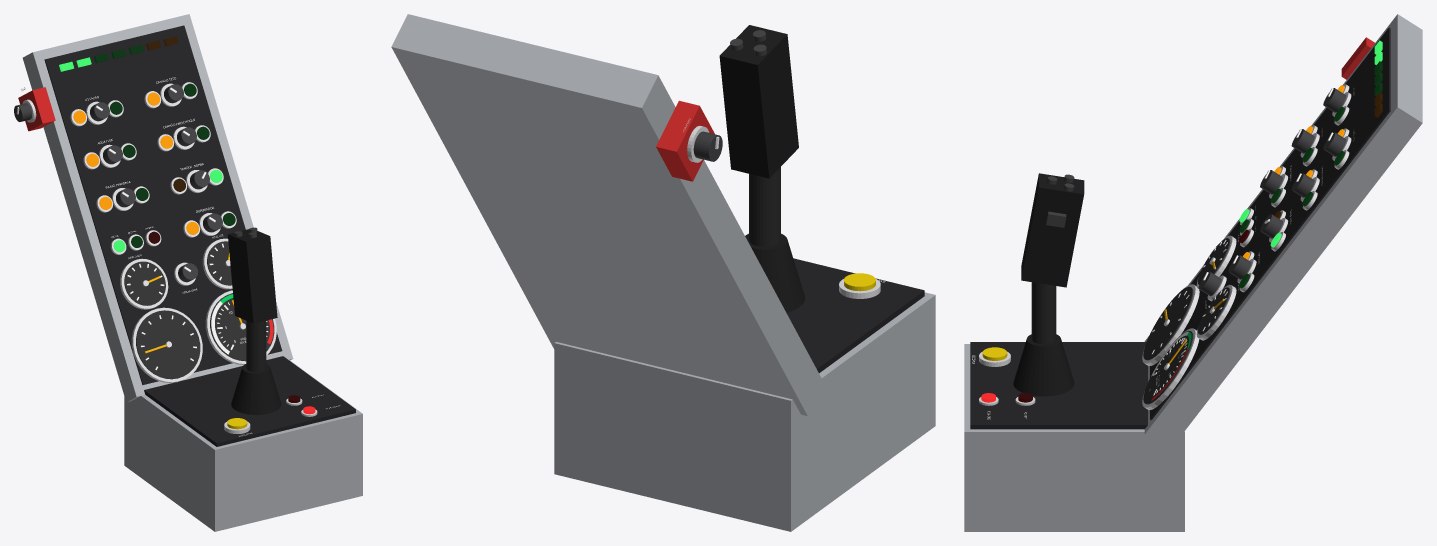
Rendered from PainelCentral.glb.
3 renders of one model, left to right at view 1: azimuth 30°, elevation 25°; view 2: azimuth 150°, elevation 25°; view 3: azimuth 270°, elevation 25°, orthographic. The views are drawn at different scales.
Parts seen in each view (by area): view 1: Painel_placa, Base, Painel_moldura, Base_topo, Joy_grip, Vacuometro_face, Joy_bota, Manometro_pressao_bomba_face, Nivel_agua_face, Joy_haste, ChaveGeral_caixa, Vacuometro_aro (+3 smaller); view 2: Painel_moldura, Base, Joy_grip, Base_topo, ChaveGeral_caixa, Joy_haste, Joy_bota, ChaveGeral_corpo; view 3: Base, Painel_moldura, Base_topo, Painel_placa, Joy_grip, Joy_bota, Joy_haste, Vacuometro_face, Manometro_pressao_bomba_face, Manometro_pressao_bomba_aro, Vacuometro_aro, Nivel_LGE_face.
Boxes of the visible parts, x1,y1,x2,y2 form: Painel_placa: [44, 25, 282, 385]; Base: [124, 359, 362, 531]; Painel_moldura: [22, 14, 293, 402]; Base_topo: [144, 356, 355, 446]; Joy_grip: [228, 229, 277, 323]; Vacuometro_face: [136, 310, 200, 379]; Joy_bota: [231, 364, 281, 414]; Manometro_pressao_bomba_face: [210, 293, 274, 361]; Nivel_agua_face: [124, 261, 165, 305]; Joy_haste: [246, 320, 266, 371]; ChaveGeral_caixa: [18, 87, 55, 131]; Vacuometro_aro: [131, 307, 202, 382]; Painel_moldura: [391, 14, 824, 416]; Base: [554, 292, 935, 531]; Joy_grip: [719, 25, 798, 178]; Base_topo: [786, 258, 924, 373]; ChaveGeral_caixa: [656, 100, 714, 181]; Joy_haste: [749, 167, 780, 246]; Joy_bota: [745, 233, 805, 312]; ChaveGeral_corpo: [693, 131, 722, 161]; Base: [964, 344, 1184, 531]; Painel_moldura: [1144, 14, 1422, 450]; Base_topo: [970, 342, 1147, 429]; Painel_placa: [1150, 27, 1390, 420]; Joy_grip: [1021, 173, 1084, 287]; Joy_bota: [1013, 334, 1074, 396]; Joy_haste: [1031, 282, 1056, 344]; Vacuometro_face: [1143, 286, 1193, 360]; Manometro_pressao_bomba_face: [1143, 330, 1193, 404]; Manometro_pressao_bomba_aro: [1142, 328, 1199, 409]; Vacuometro_aro: [1142, 284, 1199, 365]; Nivel_LGE_face: [1198, 287, 1230, 334].
Bounding box in the file's own units: 0.4205 × 0.7696 × 0.7482.
